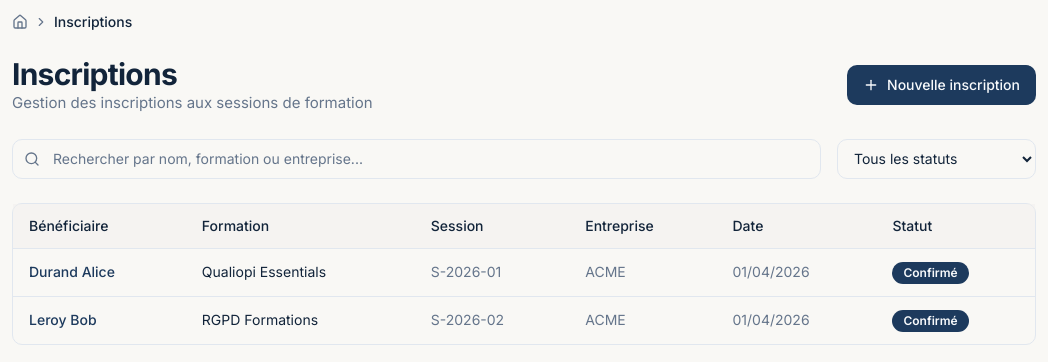
Test: EnrollmentsListPage › filters enrollments by beneficiary name
The width and height of the screenshot is (1048, 362).
Type "leroy" into the field with placeholder "Rechercher par nom, formation ou entreprise...". click: point(416, 158)
box: [12,138,821,178]
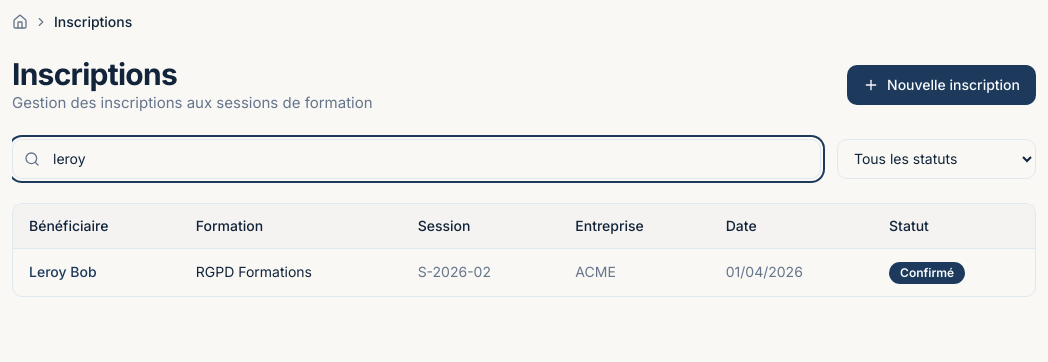
Expected: the text "RGPD Formations" is shown, [180,248,402,296]
Expected: the text "Qualiopi Essentials" is gone
